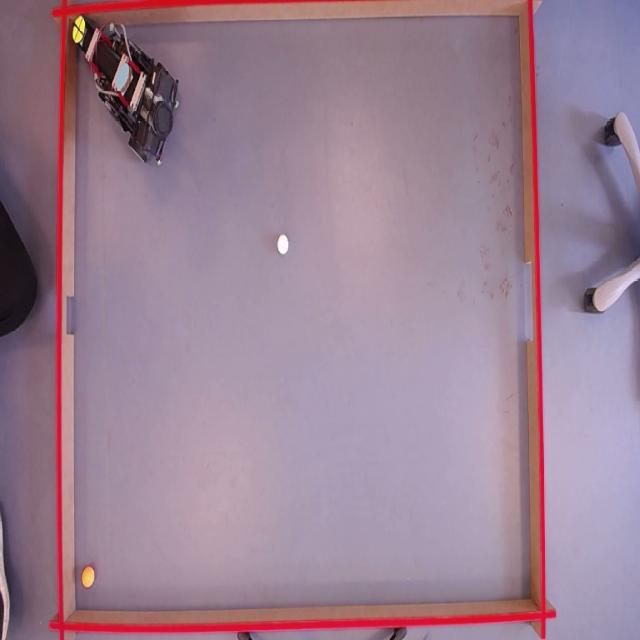orange: (82, 566, 96, 588)
robot: (67, 17, 182, 171)
robot-front: (72, 16, 86, 44)
robot-rear: (115, 63, 130, 91)
white: (275, 234, 289, 254)
